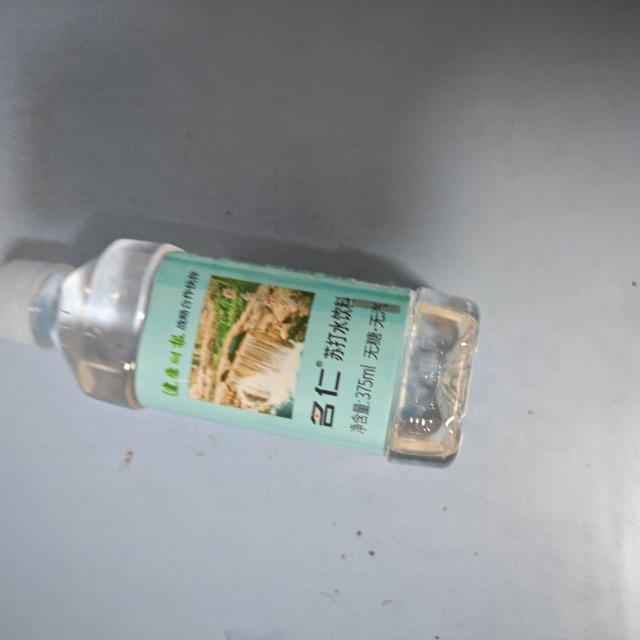-Recyclables - plastic bottle-: (0, 239, 468, 466)
